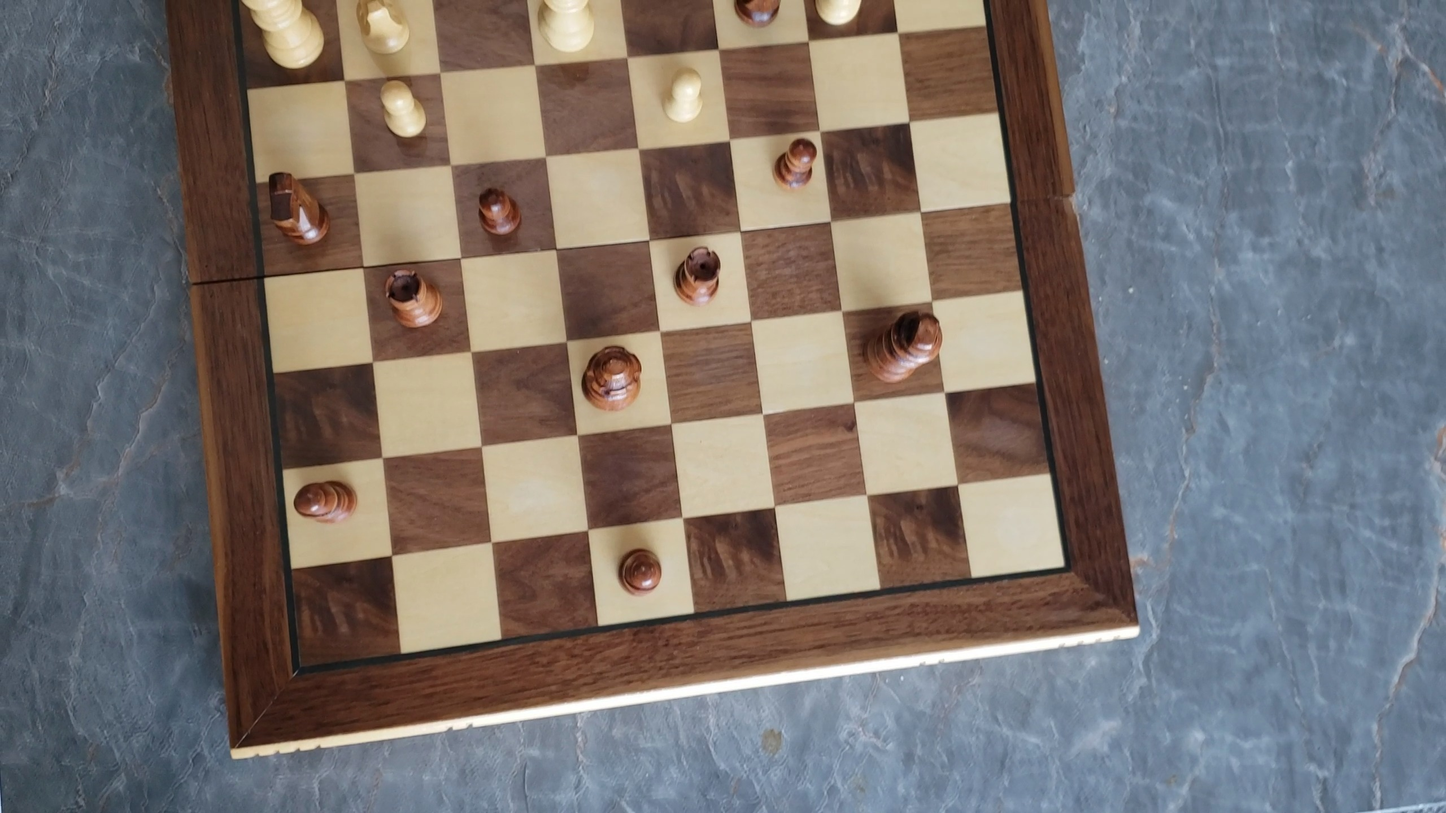black-bishop: (291, 479, 356, 527), (615, 543, 665, 596)
black-king: (865, 305, 945, 382)
black-knight: (256, 173, 350, 257)
black-pawn: (772, 134, 820, 191), (474, 183, 522, 239)
black-queen: (575, 342, 649, 419)
black-rook: (383, 266, 444, 330), (672, 243, 724, 308)
white-knight: (340, 0, 428, 55)
white-pawn: (374, 74, 432, 142), (659, 63, 710, 126)
